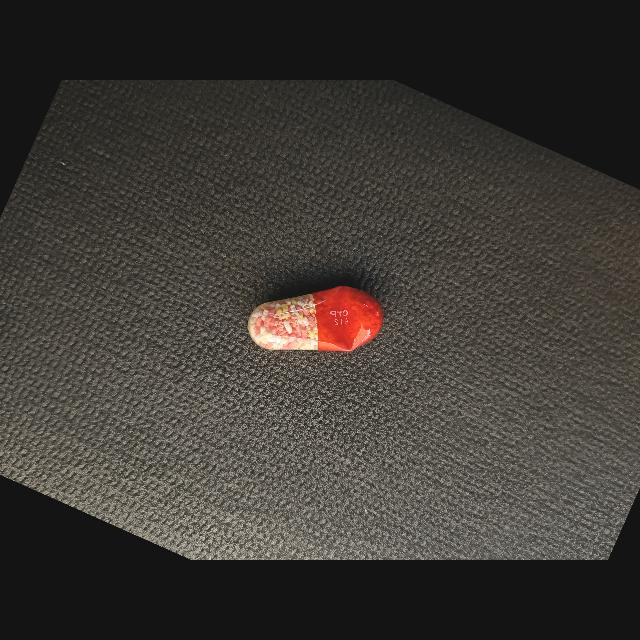Defective Capsule: (248, 286, 383, 352)
